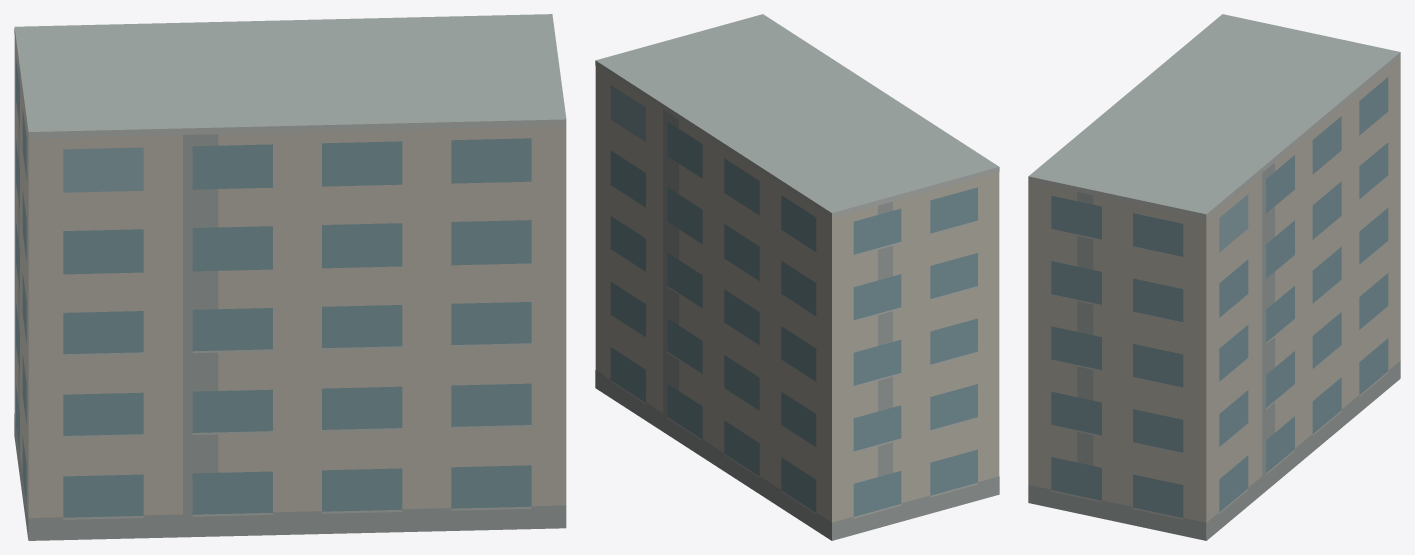
File: residential-31014962-f264-4647-9084-57be0a3343f0.glb
The picture shows the model from 3 angles, left to right: view 1: azimuth 30°, elevation 25°; view 2: azimuth 150°, elevation 25°; view 3: azimuth 270°, elevation 25°; orthographic projection. The views are drawn at different scales.
Visible parts, largest first — view 1: residential-31014962-f264-4647-9084-57be0a3343f0.tmp; view 2: residential-31014962-f264-4647-9084-57be0a3343f0.tmp; view 3: residential-31014962-f264-4647-9084-57be0a3343f0.tmp.
Part boxes in pixels (left/top/right/bottom): residential-31014962-f264-4647-9084-57be0a3343f0.tmp: left=14, top=14, right=566, bottom=540; residential-31014962-f264-4647-9084-57be0a3343f0.tmp: left=595, top=14, right=999, bottom=540; residential-31014962-f264-4647-9084-57be0a3343f0.tmp: left=1028, top=14, right=1400, bottom=540.
Bounding box in the file's own units: 20.07 × 15.25 × 15.76.
